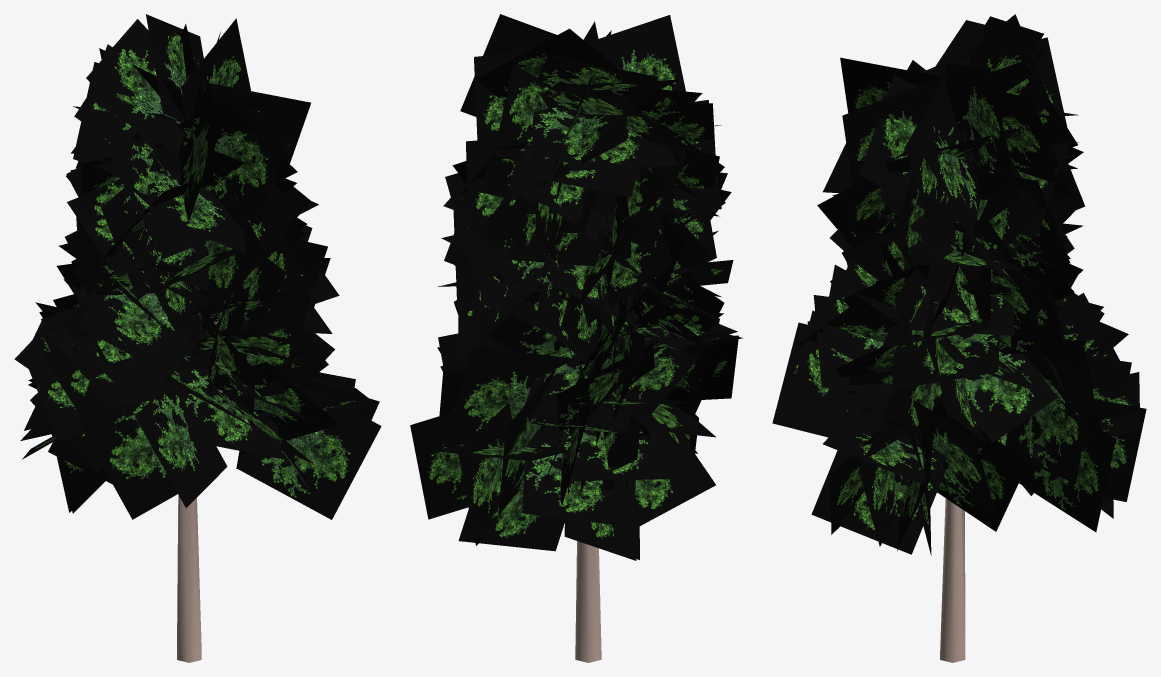
Rendered from tree.glb.
3 renders of one model, left to right at view 1: azimuth 30°, elevation 25°; view 2: azimuth 150°, elevation 25°; view 3: azimuth 270°, elevation 25°, orthographic. The views are drawn at different scales.
Size of the model in its own units: 6.47 by 12.84 by 6.84.
Materials: 2 (1 with a texture image).
